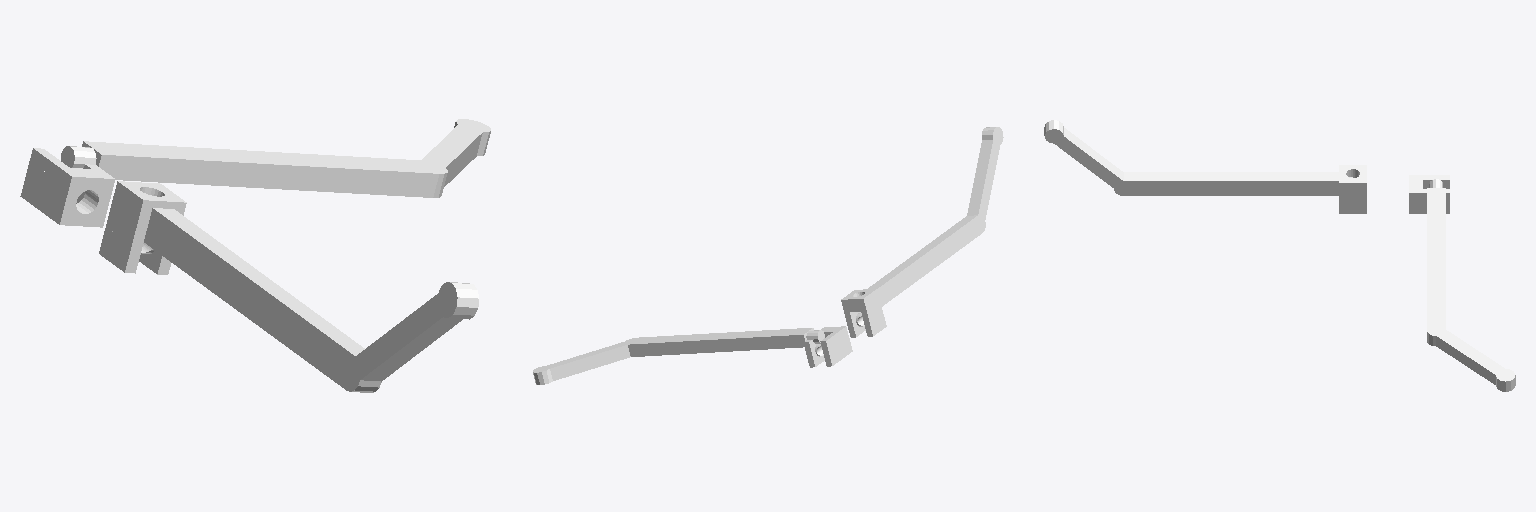
The robot description file, URDF, robot "leg-2":
<?xml version="1.0" encoding="utf-8"?>
<!-- This URDF was automatically created by SolidWorks to URDF Exporter! Originally created by [author] ([email redacted]) 
     Commit Version: 1.6.0-1-g15f4949  Build Version: 1.6.7594.29634
     For more information, please see http://wiki.ros.org/sw_urdf_exporter -->
<robot
  name="leg-2">
  <link
    name="base_link">
    <inertial>
      <origin
        xyz="-4.06369711145049E-09 -6.53076676071507E-10 0.00655119521484451"
        rpy="0 0 0" />
      <mass
        value="0.0603574048047682" />
      <inertia
        ixx="2.62795167194068E-05"
        ixy="1.08062986106813E-12"
        ixz="4.29652646551279E-12"
        iyy="3.23876165617027E-05"
        iyz="3.99812665692441E-13"
        izz="5.36673495130944E-05" />
    </inertial>
    <visual>
      <origin
        xyz="0 0 0"
        rpy="0 0 0" />
      <geometry>
        <mesh
          filename="package://leg-2/meshes/base_link.STL" />
      </geometry>
      <material
        name="">
        <color
          rgba="1 1 1 1" />
      </material>
    </visual>
    <collision>
      <origin
        xyz="0 0 0"
        rpy="0 0 0" />
      <geometry>
        <mesh
          filename="package://leg-2/meshes/base_link.STL" />
      </geometry>
    </collision>
  </link>
  <link
    name="L_L_0">
    <inertial>
      <origin
        xyz="-0.00500044767930677 -8.03686567435458E-08 -3.69876562988924E-07"
        rpy="0 0 0" />
      <mass
        value="0.00111252650071424" />
      <inertia
        ixx="5.86374551035033E-08"
        ixy="7.32232501706718E-13"
        ixz="-1.71378477470593E-12"
        iyy="1.47185849965676E-08"
        iyz="-8.00224605316878E-13"
        izz="5.70070170387329E-08" />
    </inertial>
    <visual>
      <origin
        xyz="0 0 0"
        rpy="0 0 0" />
      <geometry>
        <mesh
          filename="package://leg-2/meshes/L_L_0.STL" />
      </geometry>
      <material
        name="">
        <color
          rgba="1 1 1 1" />
      </material>
    </visual>
    <collision>
      <origin
        xyz="0 0 0"
        rpy="0 0 0" />
      <geometry>
        <mesh
          filename="package://leg-2/meshes/L_L_0.STL" />
      </geometry>
    </collision>
  </link>
  <joint
    name="J_L_0"
    type="continuous">
    <origin
      xyz="0 -0.035 0.0300000000000001"
      rpy="-0.279854049721946 0 -1.5707963267949" />
    <parent
      link="base_link" />
    <child
      link="L_L_0" />
    <axis
      xyz="1 0 0" />
  </joint>
  <link
    name="L_L_1">
    <inertial>
      <origin
        xyz="2.56739074444567E-15 0.0074999999999992 -8.04911692853238E-16"
        rpy="0 0 0" />
      <mass
        value="0.00642920367320511" />
      <inertia
        ixx="7.7370483969244E-07"
        ixy="-2.64697796016969E-23"
        ixz="-7.51703564774716E-23"
        iyy="5.72792224904781E-07"
        iyz="-5.75280396845419E-24"
        izz="8.32798685348823E-07" />
    </inertial>
    <visual>
      <origin
        xyz="0 0 0"
        rpy="0 0 0" />
      <geometry>
        <mesh
          filename="package://leg-2/meshes/L_L_1.STL" />
      </geometry>
      <material
        name="">
        <color
          rgba="1 1 1 1" />
      </material>
    </visual>
    <collision>
      <origin
        xyz="0 0 0"
        rpy="0 0 0" />
      <geometry>
        <mesh
          filename="package://leg-2/meshes/L_L_1.STL" />
      </geometry>
    </collision>
  </link>
  <joint
    name="J_L_1"
    type="continuous">
    <origin
      xyz="-0.00500000000000003 0 0"
      rpy="1.5707963267949 0 -1.5707963267949" />
    <parent
      link="L_L_0" />
    <child
      link="L_L_1" />
    <axis
      xyz="1 0 0" />
  </joint>
  <link
    name="L_L_2">
    <inertial>
      <origin
        xyz="0.0829352552189961 -0.00577871243285216 -1.04083408558608E-16"
        rpy="0 0 0" />
      <mass
        value="0.0162098836233209" />
      <inertia
        ixx="2.40381887534248E-06"
        ixy="6.16592737719074E-06"
        ixz="3.48419816267515E-22"
        iyy="3.53395888356251E-05"
        iyz="-9.33045868568433E-22"
        izz="3.74765154762597E-05" />
    </inertial>
    <visual>
      <origin
        xyz="0 0 0"
        rpy="0 0 0" />
      <geometry>
        <mesh
          filename="package://leg-2/meshes/L_L_2.STL" />
      </geometry>
      <material
        name="">
        <color
          rgba="1 1 1 1" />
      </material>
    </visual>
    <collision>
      <origin
        xyz="0 0 0"
        rpy="0 0 0" />
      <geometry>
        <mesh
          filename="package://leg-2/meshes/L_L_2.STL" />
      </geometry>
    </collision>
  </link>
  <joint
    name="J_L_2"
    type="continuous">
    <origin
      xyz="0 0.01 0"
      rpy="-3.14159265358979 0 1.5707963267949" />
    <parent
      link="L_L_1" />
    <child
      link="L_L_2" />
    <axis
      xyz="1 0 0" />
  </joint>
  <link
    name="L_R_0">
    <inertial>
      <origin
        xyz="0.00499955232069328 -8.03686492842348E-08 -3.6987656351628E-07"
        rpy="0 0 0" />
      <mass
        value="0.00111252650071424" />
      <inertia
        ixx="5.86374551035033E-08"
        ixy="7.32232501485636E-13"
        ixz="-1.71378477464577E-12"
        iyy="1.47185849965676E-08"
        iyz="-8.00224605373333E-13"
        izz="5.70070170387329E-08" />
    </inertial>
    <visual>
      <origin
        xyz="0 0 0"
        rpy="0 0 0" />
      <geometry>
        <mesh
          filename="package://leg-2/meshes/L_R_0.STL" />
      </geometry>
      <material
        name="">
        <color
          rgba="1 1 1 1" />
      </material>
    </visual>
    <collision>
      <origin
        xyz="0 0 0"
        rpy="0 0 0" />
      <geometry>
        <mesh
          filename="package://leg-2/meshes/L_R_0.STL" />
      </geometry>
    </collision>
  </link>
  <joint
    name="J_R_0"
    type="continuous">
    <origin
      xyz="0 0.0249999999999999 0.03"
      rpy="0.279854049721946 0 1.5707963267949" />
    <parent
      link="base_link" />
    <child
      link="L_R_0" />
    <axis
      xyz="1 0 0" />
  </joint>
  <link
    name="L_R_1">
    <inertial>
      <origin
        xyz="-4.87804241444678E-15 0.00749999999999895 7.63278329429795E-16"
        rpy="0 0 0" />
      <mass
        value="0.0064292036732051" />
      <inertia
        ixx="7.73704839692439E-07"
        ixy="2.24993126614424E-22"
        ixz="-1.56250248067259E-22"
        iyy="5.7279222490478E-07"
        iyz="2.13588113585916E-23"
        izz="8.32798685348821E-07" />
    </inertial>
    <visual>
      <origin
        xyz="0 0 0"
        rpy="0 0 0" />
      <geometry>
        <mesh
          filename="package://leg-2/meshes/L_R_1.STL" />
      </geometry>
      <material
        name="">
        <color
          rgba="1 1 1 1" />
      </material>
    </visual>
    <collision>
      <origin
        xyz="0 0 0"
        rpy="0 0 0" />
      <geometry>
        <mesh
          filename="package://leg-2/meshes/L_R_1.STL" />
      </geometry>
    </collision>
  </link>
  <joint
    name="J_R_1"
    type="continuous">
    <origin
      xyz="0.00500000000000005 0 0"
      rpy="1.5707963267949 0 -1.5707963267949" />
    <parent
      link="L_R_0" />
    <child
      link="L_R_1" />
    <axis
      xyz="1 0 0" />
  </joint>
  <link
    name="L_R_2">
    <inertial>
      <origin
        xyz="0.0829352552189959 0.00577871243284926 1.52655665885959E-16"
        rpy="0 0 0" />
      <mass
        value="0.0162098836233209" />
      <inertia
        ixx="2.40381887534248E-06"
        ixy="-6.16592737719073E-06"
        ixz="-6.04711054714986E-22"
        iyy="3.5339588835625E-05"
        iyz="1.07664232818176E-22"
        izz="3.74765154762597E-05" />
    </inertial>
    <visual>
      <origin
        xyz="0 0 0"
        rpy="0 0 0" />
      <geometry>
        <mesh
          filename="package://leg-2/meshes/L_R_2.STL" />
      </geometry>
      <material
        name="">
        <color
          rgba="1 1 1 1" />
      </material>
    </visual>
    <collision>
      <origin
        xyz="0 0 0"
        rpy="0 0 0" />
      <geometry>
        <mesh
          filename="package://leg-2/meshes/L_R_2.STL" />
      </geometry>
    </collision>
  </link>
  <joint
    name="J_R_2"
    type="continuous">
    <origin
      xyz="0 0.01 0"
      rpy="-3.14159265358979 0 1.5707963267949" />
    <parent
      link="L_R_1" />
    <child
      link="L_R_2" />
    <axis
      xyz="1 0 0" />
  </joint>
</robot>

--- Render facts (derived) ---
Views: 3 orthographic renders of the robot side by side, from view 1: azimuth 30°, elevation 25°; view 2: azimuth 150°, elevation 25°; view 3: azimuth 270°, elevation 25°.
Robot: leg-2 — 7 links, 6 joints (6 continuous); root link base_link; default pose: all joints at 0.
Links seen in each view (by area): view 1: L_L_2, L_R_2, L_R_1, L_L_1; view 2: L_R_2, L_L_2, L_L_1, L_R_1; view 3: L_L_2, L_R_2, L_L_1, L_R_1.
Link boxes in pixels (x1,y1,x2,y2): L_L_2: (144,208,478,392); L_R_2: (61,119,490,197); L_R_1: (20,148,114,227); L_L_1: (99,181,186,274); L_R_2: (533,328,824,384); L_L_2: (868,127,1003,306); L_L_1: (841,289,886,337); L_R_1: (803,326,852,367); L_L_2: (1044,120,1352,195); L_R_2: (1427,179,1515,391); L_L_1: (1339,165,1366,213); L_R_1: (1409,175,1449,213).
Bounding box of the posed robot: 0.2305 × 0.3397 × 0.1225 m (x, y, z).
6 mesh visuals loaded from 7 distinct referenced files (6 binary STL); not drawn: 1 (reference not matched to a file when rendering).